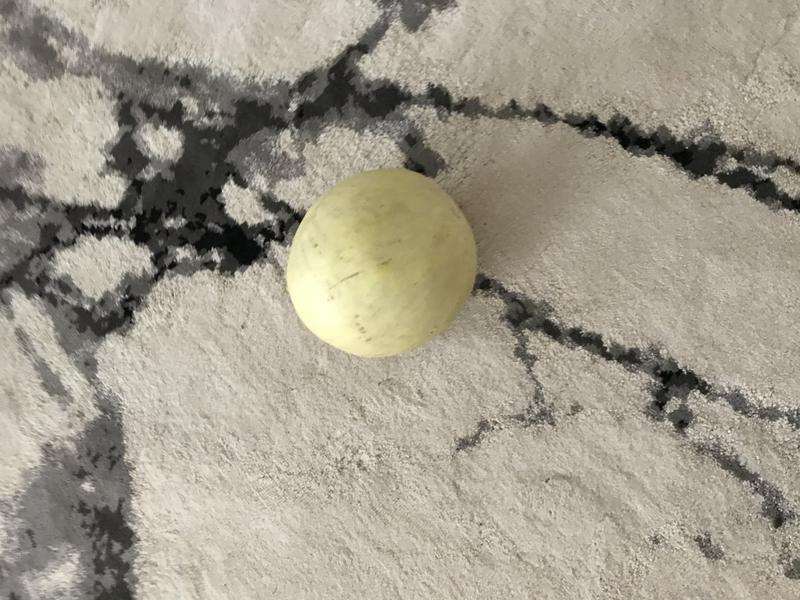honeydew: (279, 160, 489, 365)
